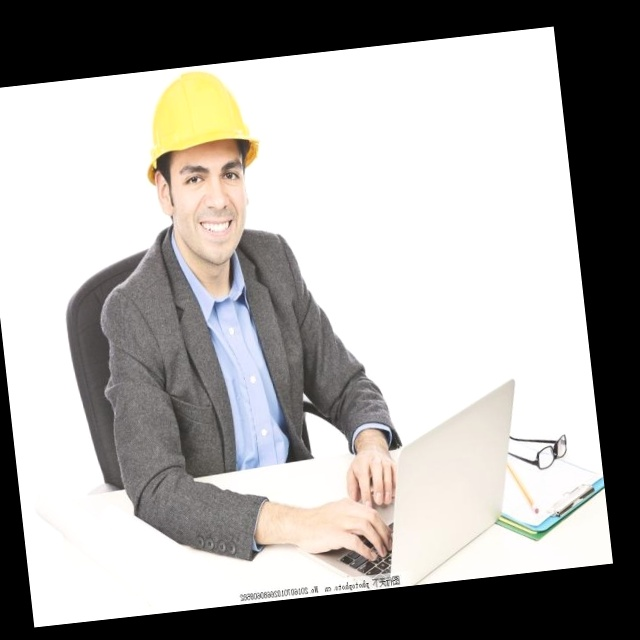Con_Casco: (137, 68, 267, 247)
Sin_Chaleco: (100, 229, 323, 478)
